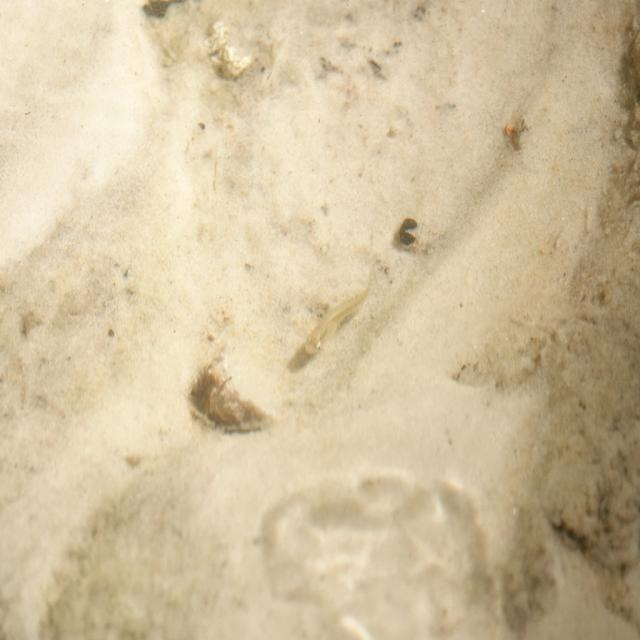Sivrisinek Baligi: (301, 285, 368, 362)
